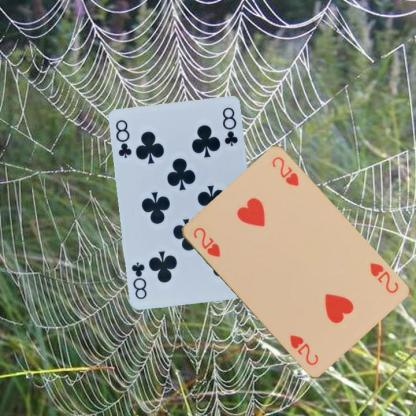2h: (367, 258, 400, 295), (190, 225, 221, 258)
8c: (113, 118, 134, 160)
